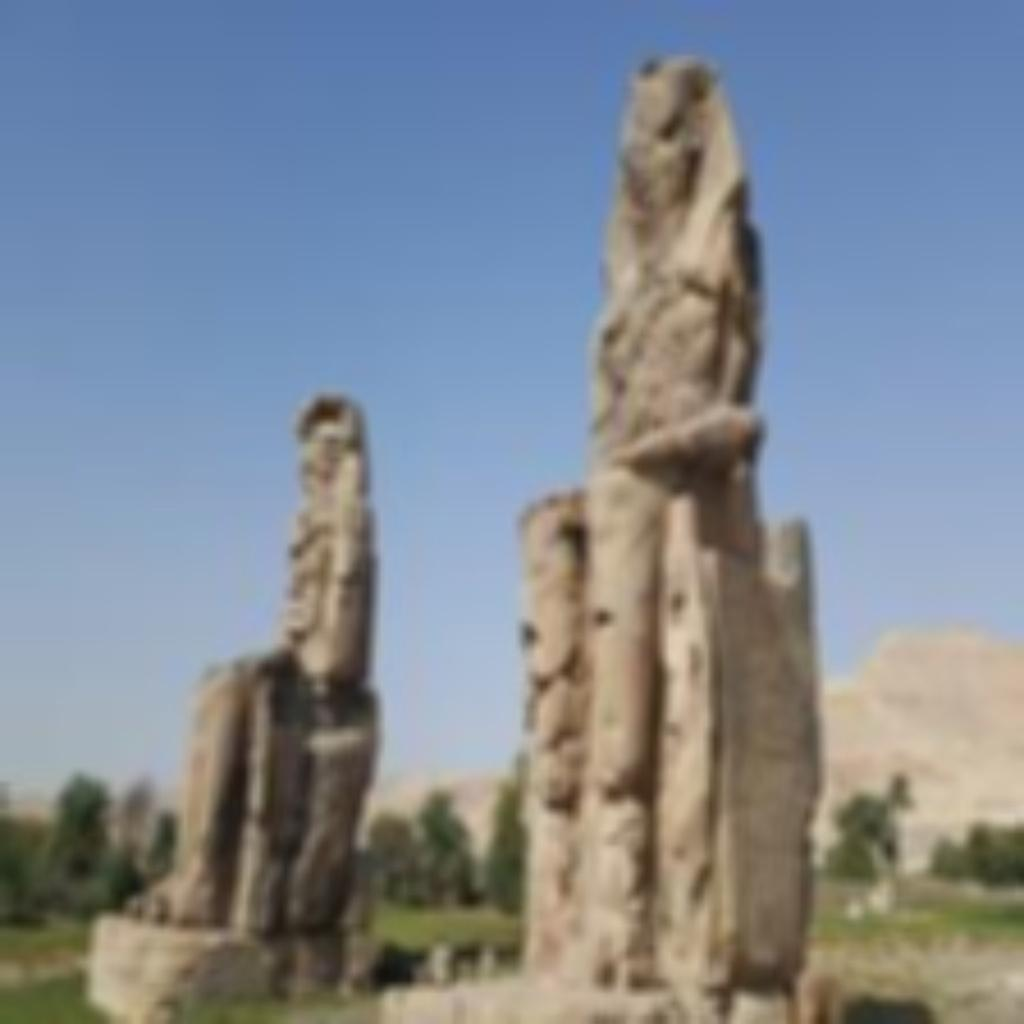Colossoi of Memnon: (502, 41, 836, 1010), (132, 383, 390, 972)
